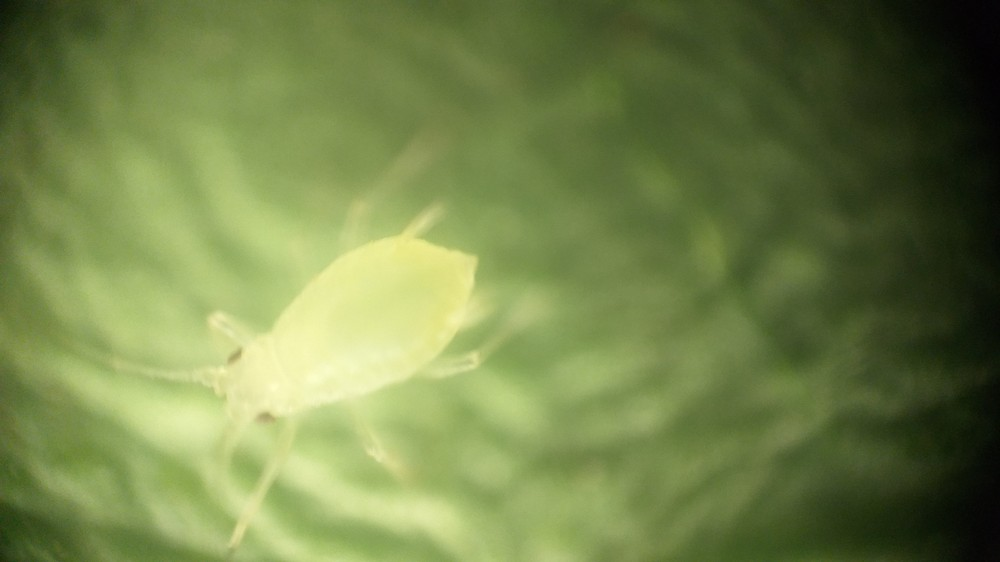Pulgon: (59, 163, 574, 548)
